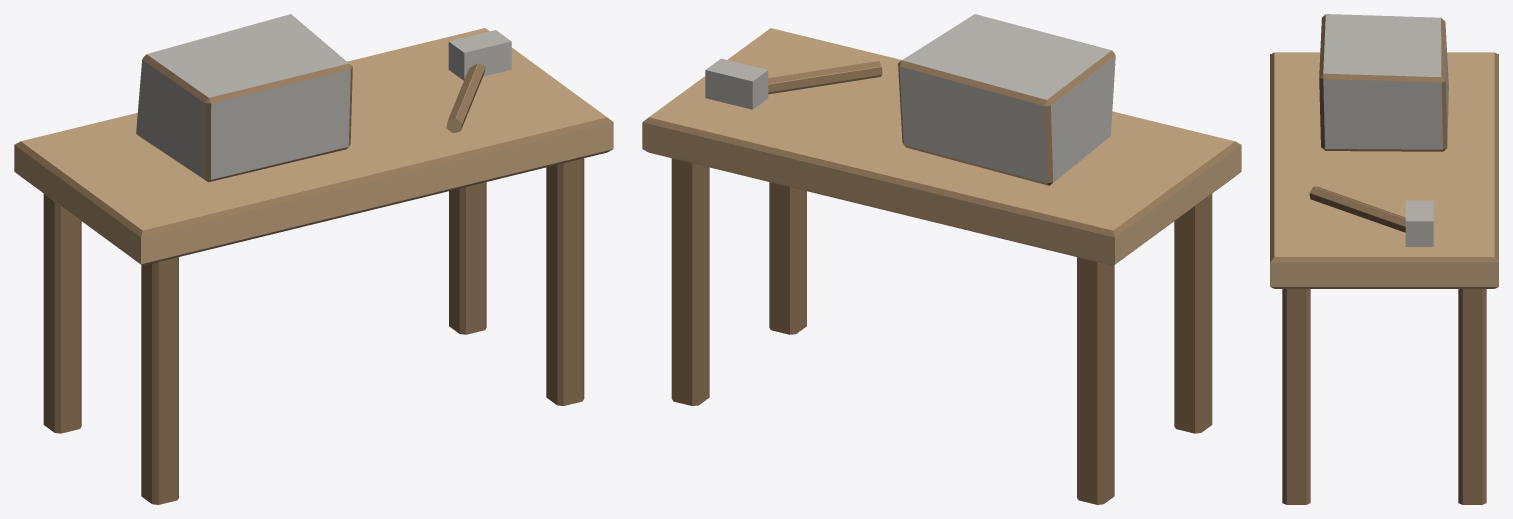
Rendered from mason_bench_idle.glb.
3 renders of one model, left to right at view 1: azimuth 30°, elevation 25°; view 2: azimuth 150°, elevation 25°; view 3: azimuth 270°, elevation 25°, orthographic. The views are drawn at different scales.
Visible parts, largest first — view 1: mason_bench_idle; view 2: mason_bench_idle; view 3: mason_bench_idle.
Boxes of the visible parts, x1,y1,x2,y2 form: mason_bench_idle: (14, 14, 613, 504); mason_bench_idle: (642, 14, 1241, 504); mason_bench_idle: (1270, 14, 1498, 504).
Bounding box in the file's own units: 1.4 × 1.06 × 0.65.
